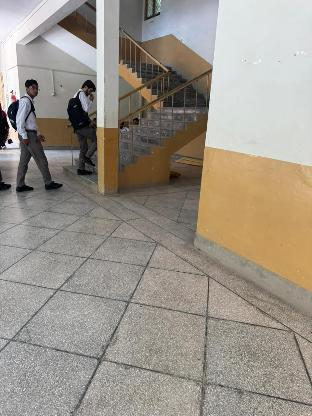person: (9, 75, 67, 197), (67, 77, 99, 176)
stair: (117, 103, 204, 176), (123, 37, 208, 108)
